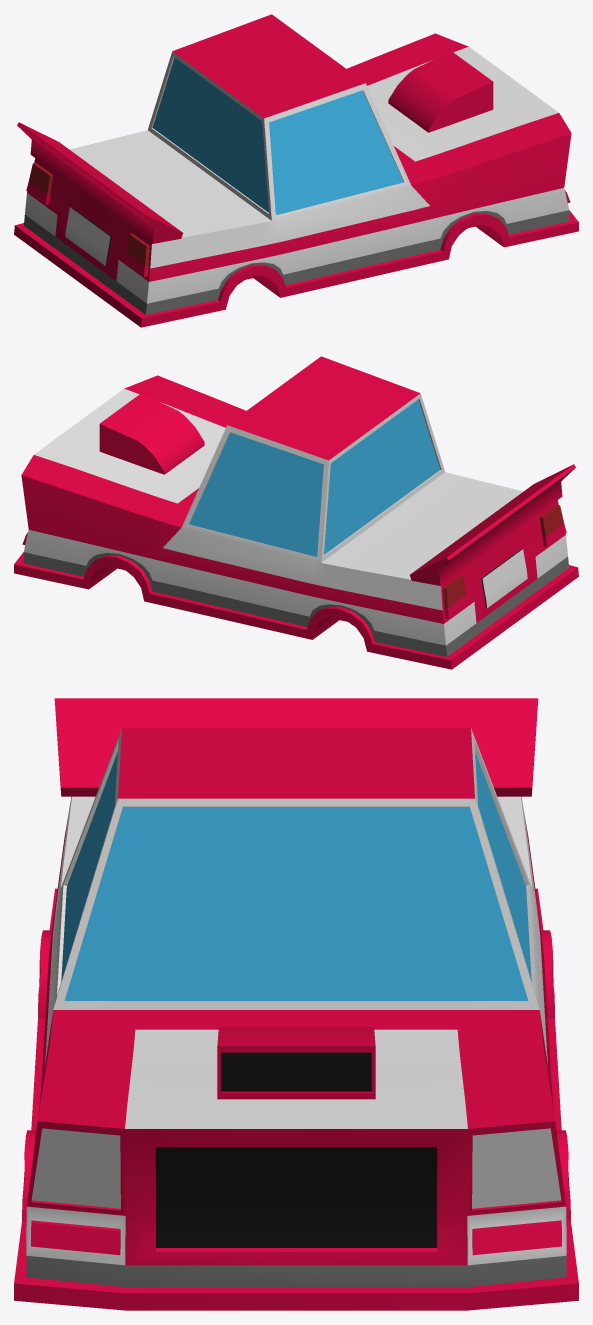
File: SM_TestCar.fbx
3 views of the same model, one above another, from view 1: azimuth 30°, elevation 25°; view 2: azimuth 150°, elevation 25°; view 3: azimuth 270°, elevation 25° (orthographic). The views are drawn at different scales.
Parts seen in each view (by area): view 1: Cube.001; view 2: Cube.001; view 3: Cube.001.
Part boxes in pixels (<box>): Cube.001: <box>14,14,578,327</box>; Cube.001: <box>14,356,578,669</box>; Cube.001: <box>14,698,578,1310</box>.
Bounding box in the file's own units: 727 × 276 × 428.
